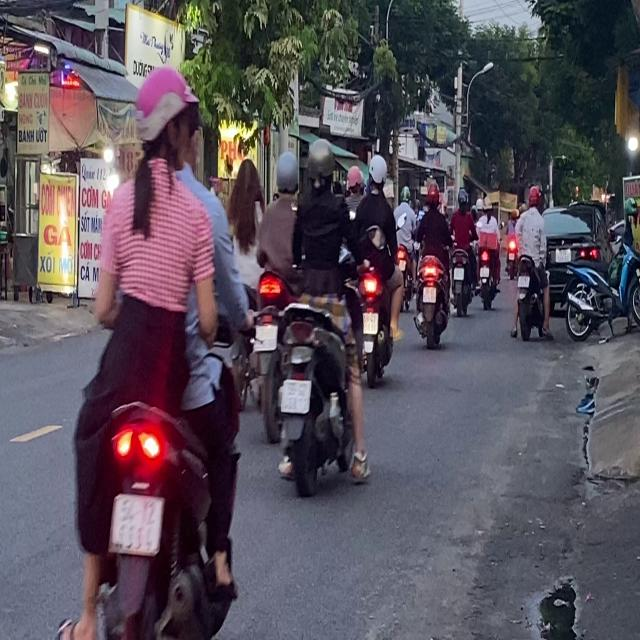helmet: (131, 66, 203, 172), (305, 137, 334, 188), (274, 149, 299, 198), (367, 153, 387, 190), (345, 164, 364, 194), (425, 179, 440, 208), (526, 184, 540, 209)
licenseplate: (65, 61, 254, 635), (270, 133, 370, 498), (249, 144, 302, 441), (348, 152, 402, 386), (511, 183, 552, 341), (413, 178, 451, 348)
nohelmet: (112, 494, 161, 552), (281, 379, 310, 412), (254, 324, 277, 349), (362, 312, 378, 334), (423, 286, 436, 302), (518, 275, 529, 287)
